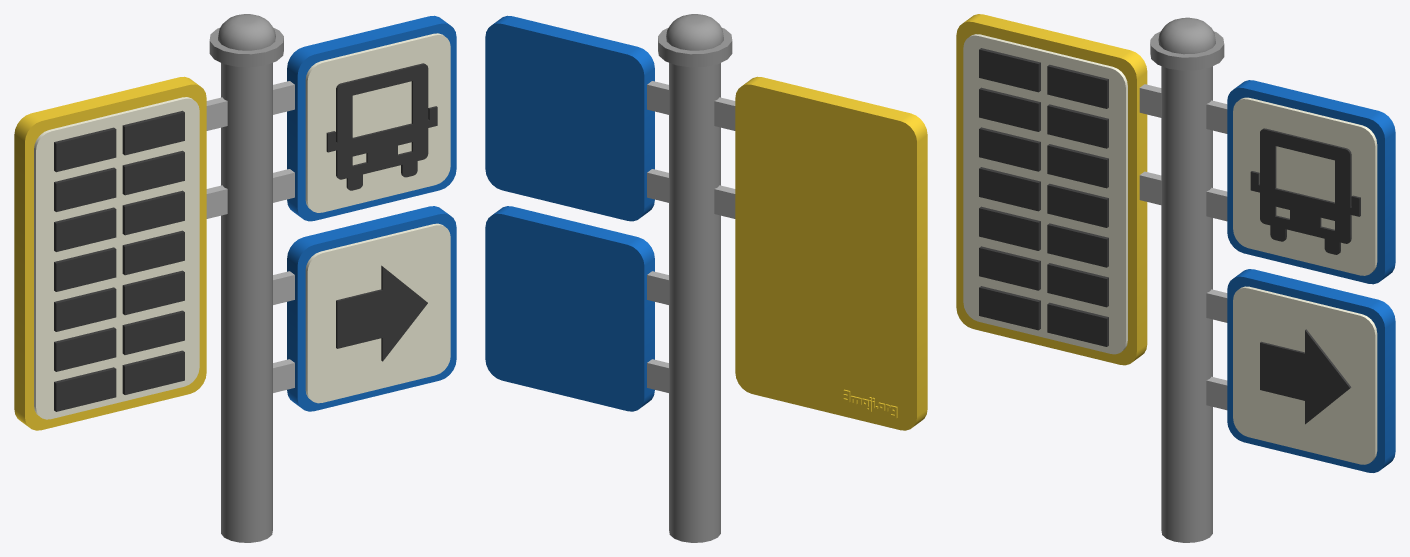
File: bus_stop.glb
The picture shows the model from 3 angles, left to right: view 1: azimuth 30°, elevation 25°; view 2: azimuth 150°, elevation 25°; view 3: azimuth 330°, elevation 25°; orthographic projection.
Parts seen in each view (by area): view 1: Cylinder.446; view 2: Cylinder.446; view 3: Cylinder.446.
Boxes of the visible parts, bbox=[...] form: Cylinder.446: bbox=[14, 14, 456, 542]; Cylinder.446: bbox=[485, 14, 927, 542]; Cylinder.446: bbox=[956, 14, 1395, 542].
Size of the model in its own units: 2.13 by 2.41 by 0.321.
Materials: 1 (1 with a texture image).
